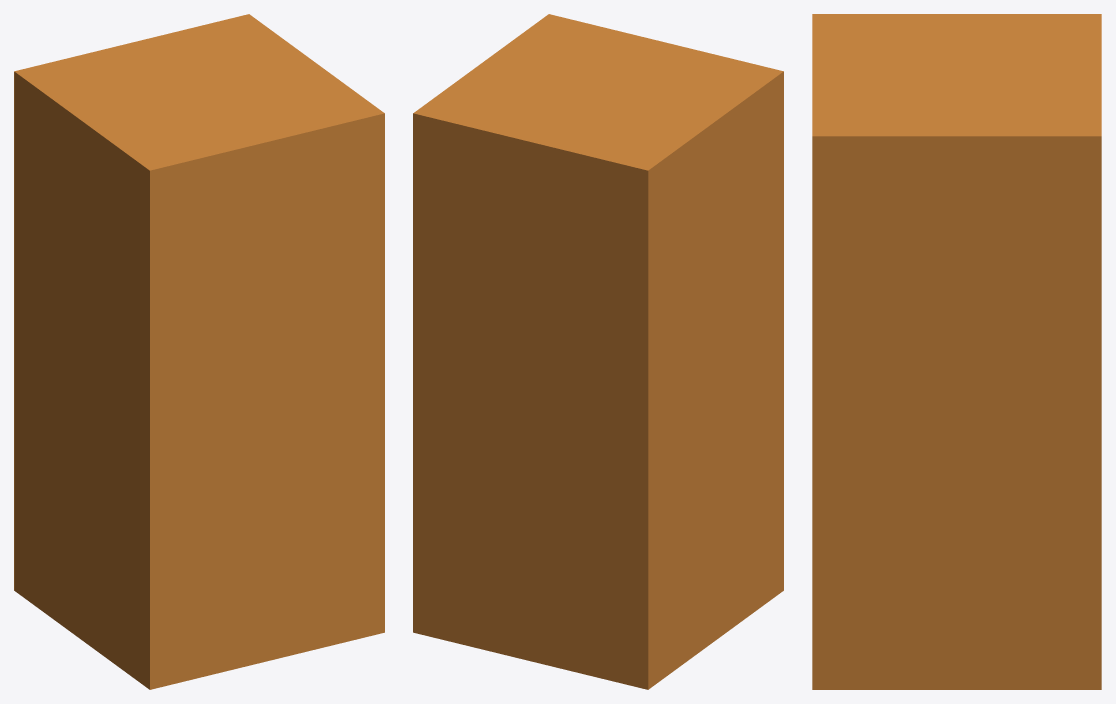
The picture shows the model from 3 angles, left to right: view 1: azimuth 30°, elevation 25°; view 2: azimuth 150°, elevation 25°; view 3: azimuth 270°, elevation 25°; orthographic projection. The views are drawn at different scales.
Visible parts, largest first — view 1: __delivery_mesh_6857; view 2: __delivery_mesh_6857; view 3: __delivery_mesh_6857.
Boxes of the visible parts, x1,y1,x2,y2 form: __delivery_mesh_6857: (14,14,384,689); __delivery_mesh_6857: (413,14,783,689); __delivery_mesh_6857: (812,14,1101,689).
Bounding box in the file's own units: 0.09 × 0.19 × 0.09.
